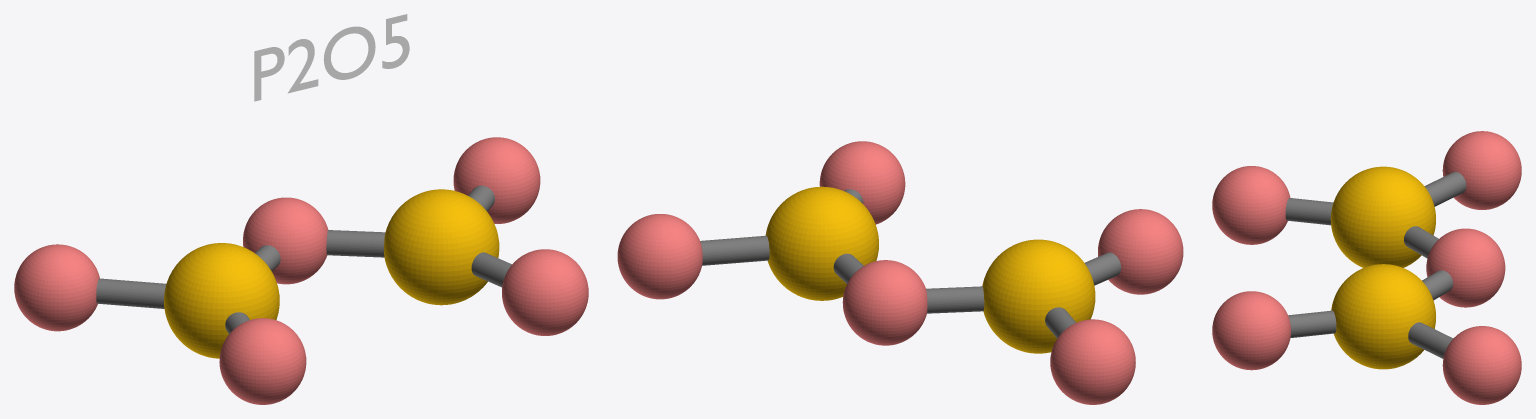
The picture shows the model from 3 angles, left to right: view 1: azimuth 30°, elevation 25°; view 2: azimuth 150°, elevation 25°; view 3: azimuth 270°, elevation 25°; orthographic projection. The views are drawn at different scales.
Visible parts, largest first — view 1: P2, P1, O2, O4, O1, O_mid, O3, Label, Bond.002, Bond.001, Bond.005; view 2: P2, P1, O1, O3, O_mid, O2, O4, Bond.004, Bond, Bond.003, Bond.002, Bond.001; view 3: P2, P1, O4, O3, O2, O1, O_mid, Bond.005, Bond.003, Bond.004, Bond.002, Bond (+1 smaller).
Part boxes in pixels (left/top/right/bottom): P2: left=384, top=189, right=499, bottom=305; P1: left=164, top=243, right=279, bottom=358; O2: left=219, top=318, right=306, bottom=404; O4: left=502, top=249, right=588, bottom=335; O1: left=14, top=244, right=99, bottom=331; O_mid: left=243, top=197, right=328, bottom=284; O3: left=453, top=137, right=540, bottom=223; Label: left=254, top=14, right=409, bottom=101; Bond.002: left=96, top=278, right=166, bottom=308; Bond.001: left=326, top=230, right=385, bottom=257; Bond.005: left=471, top=252, right=511, bottom=287; P2: left=765, top=186, right=878, bottom=300; P1: left=982, top=239, right=1095, bottom=353; O1: left=1050, top=319, right=1135, bottom=404; O3: left=617, top=214, right=702, bottom=299; O_mid: left=842, top=260, right=927, bottom=345; O2: left=1098, top=209, right=1183, bottom=294; O4: left=819, top=141, right=905, bottom=224; Bond.004: left=700, top=235, right=769, bottom=265; Bond: left=926, top=286, right=984, bottom=313; Bond.003: left=1084, top=252, right=1121, bottom=285; Bond.002: left=1045, top=307, right=1076, bottom=338; Bond.001: left=833, top=253, right=863, bottom=283; P2: left=1331, top=264, right=1435, bottom=369; P1: left=1330, top=166, right=1435, bottom=267; O4: left=1212, top=291, right=1290, bottom=370; O3: left=1442, top=326, right=1521, bottom=404; O2: left=1212, top=166, right=1290, bottom=244; O1: left=1442, top=131, right=1521, bottom=209; O_mid: left=1426, top=228, right=1505, bottom=307; Bond.005: left=1288, top=310, right=1336, bottom=337; Bond.003: left=1285, top=198, right=1333, bottom=225; Bond.004: left=1408, top=322, right=1453, bottom=358; Bond.002: left=1424, top=172, right=1466, bottom=206; Bond: left=1404, top=226, right=1438, bottom=258.
Bounding box in the file's own units: 3.28 × 1.8 × 1.88.
